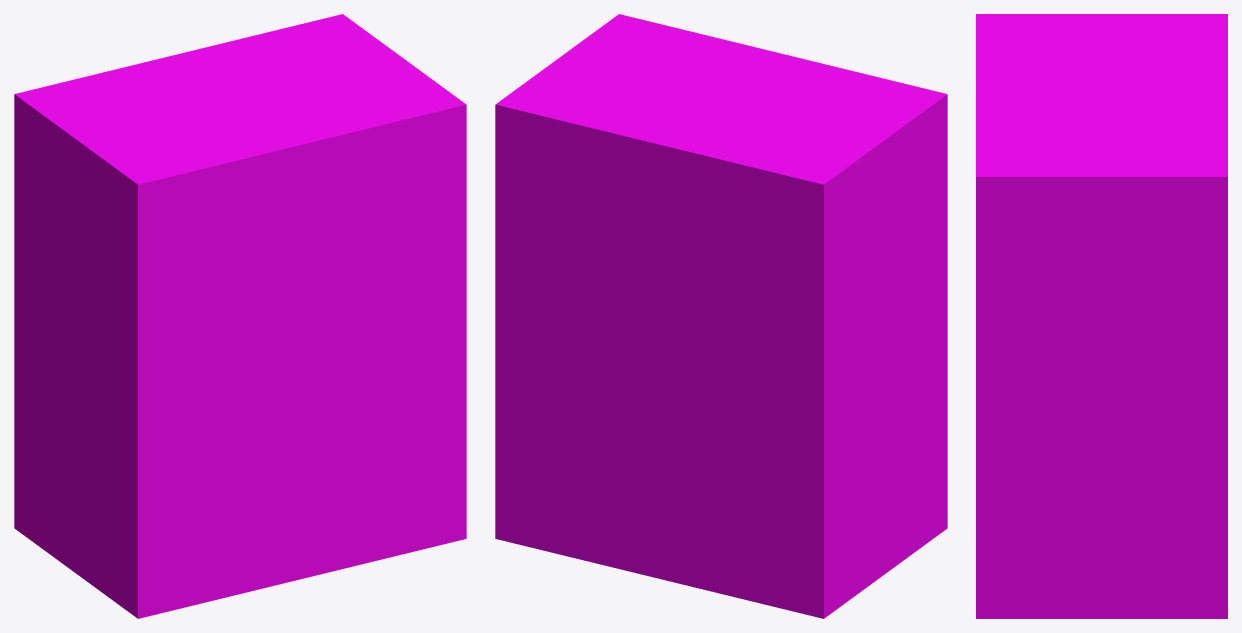
Rendered from observatory-forecast-plinth.collision.glb.
3 renders of one model, left to right at view 1: azimuth 30°, elevation 25°; view 2: azimuth 150°, elevation 25°; view 3: azimuth 270°, elevation 25°, orthographic.
Visible parts, largest first — view 1: observatory_forecast_plinth_collision_collision; view 2: observatory_forecast_plinth_collision_collision; view 3: observatory_forecast_plinth_collision_collision.
Part boxes in pixels (x1,y1,x2,y2): observatory_forecast_plinth_collision_collision: (14,14,466,618); observatory_forecast_plinth_collision_collision: (495,14,947,618); observatory_forecast_plinth_collision_collision: (976,14,1227,618).
Size of the model in its own units: 0.95 by 1.2 by 0.62.
